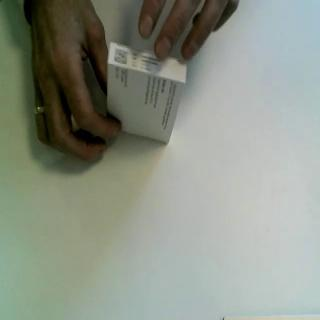dolcontin10mg: (107, 40, 189, 147)
